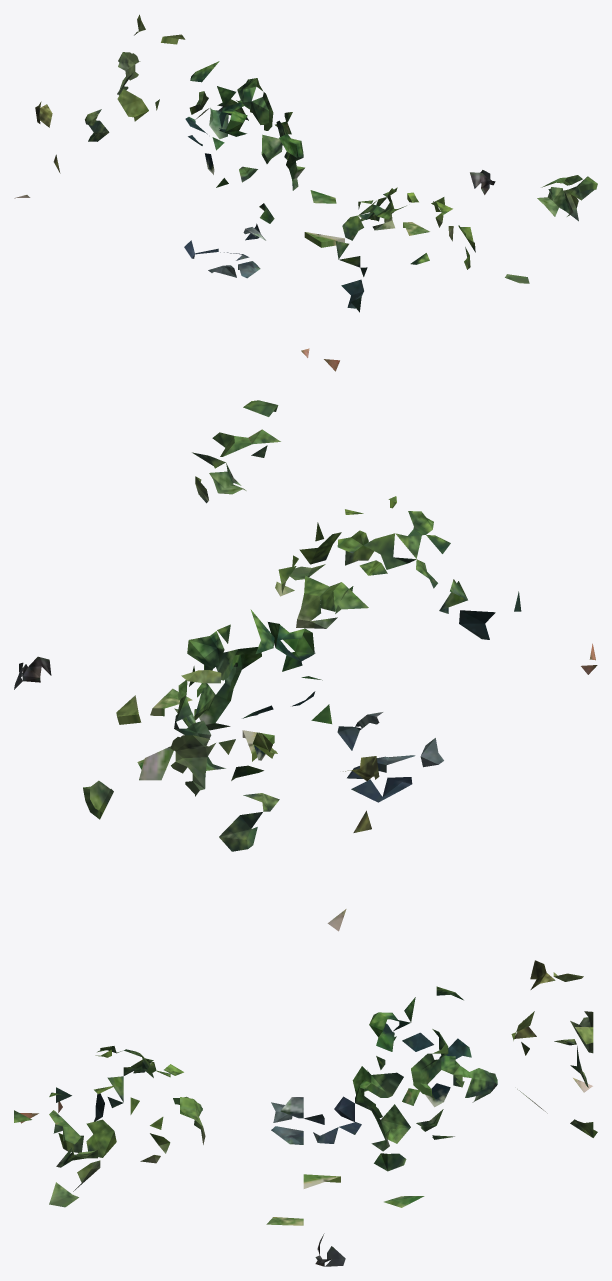
The model's file is BuildingMesh-00091.gltf.
3 views of the same model, one above another, from view 1: azimuth 30°, elevation 25°; view 2: azimuth 150°, elevation 25°; view 3: azimuth 270°, elevation 25° (orthographic). The views are drawn at different scales.
Parts seen in each view (by area): view 1: BuildingMesh-00091; view 2: BuildingMesh-00091; view 3: BuildingMesh-00091.
Part boxes in pixels (box(x1,y1,x2,y2)): BuildingMesh-00091: box(14, 14, 597, 371); BuildingMesh-00091: box(14, 400, 597, 931); BuildingMesh-00091: box(14, 960, 597, 1266).
Size of the model in its own units: 3.11 by 1.33 by 3.92.
1 material, 1 textured.
